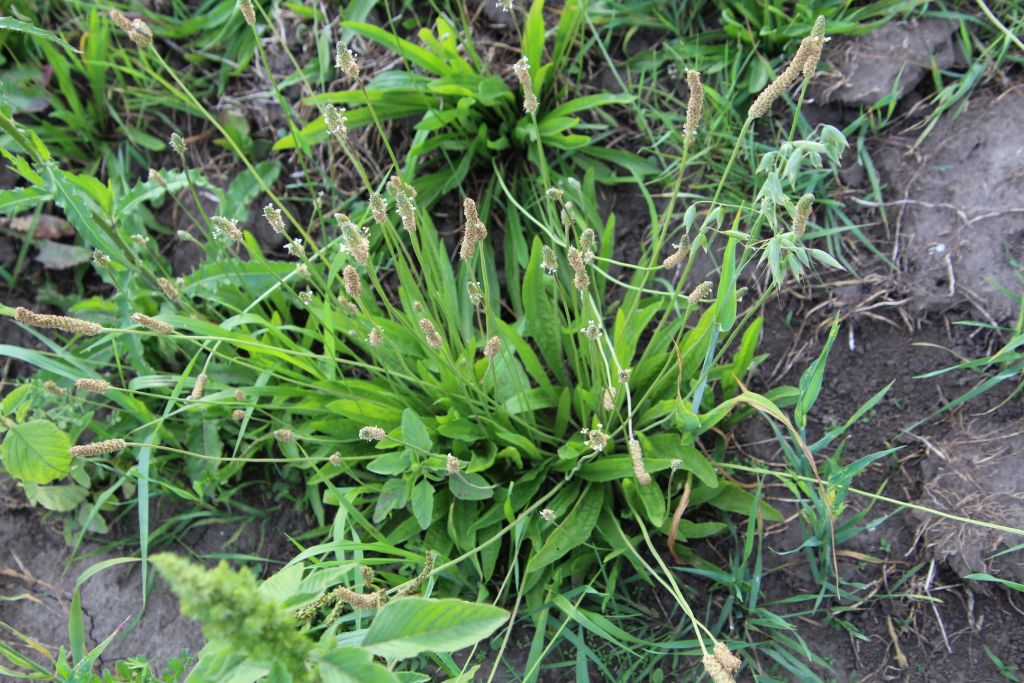buckhorn plantain: (102, 10, 760, 582)
